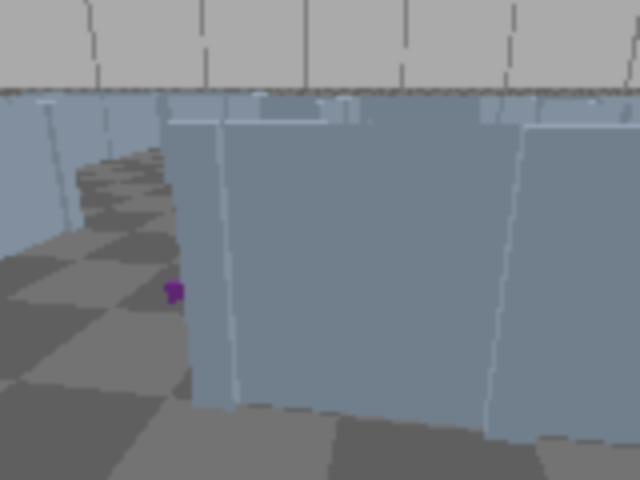puck: (166, 278, 192, 302)
